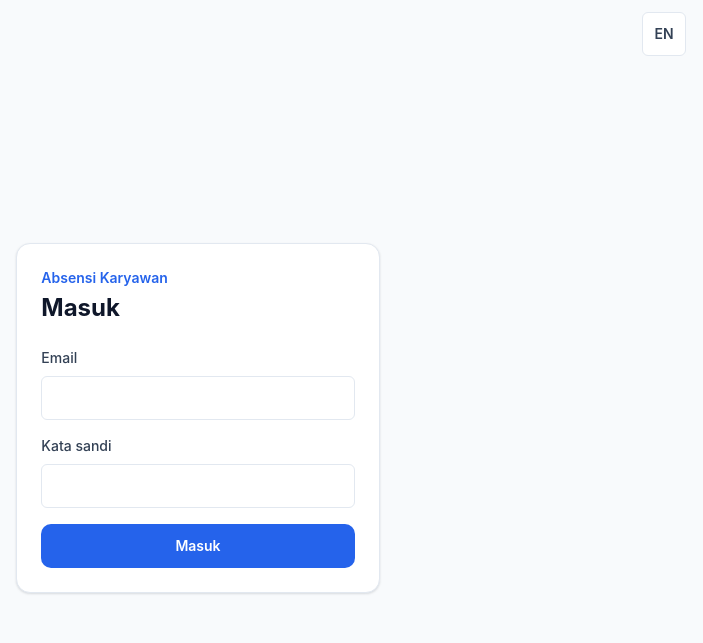
Scenario: LoginPage › shows the generic failure plus the attempts left on a rejected sign-in
Type "worker@corp.test" into the field labelled "Email".
click(198, 398); type("worker@corp.test")  # box [41, 376, 355, 420]
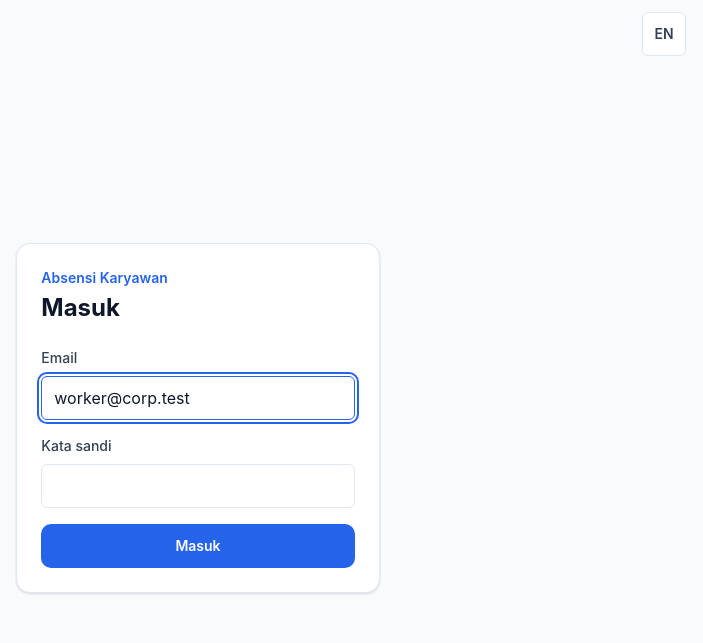
Type "secret-1" into the password field labelled "Kata sandi".
click(198, 486); type("secret-1")  # box [41, 464, 355, 508]
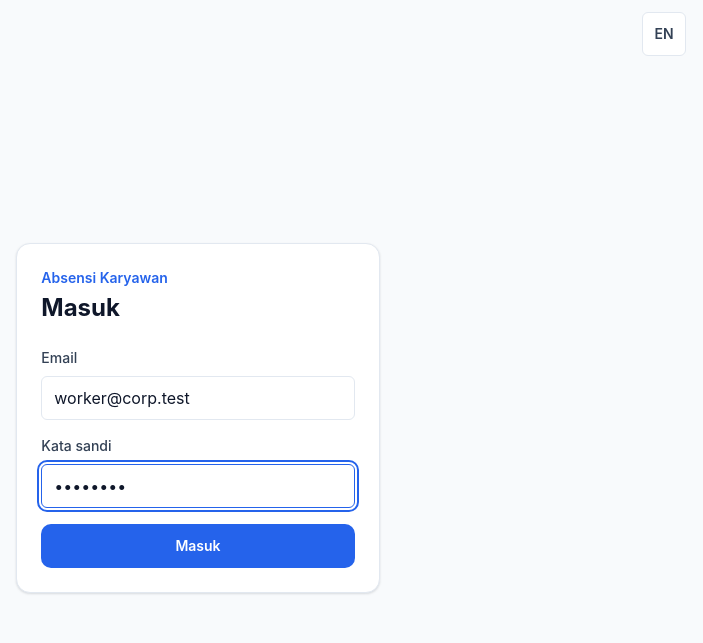
Click the button "Masuk".
click(198, 546)  # box [41, 524, 355, 568]
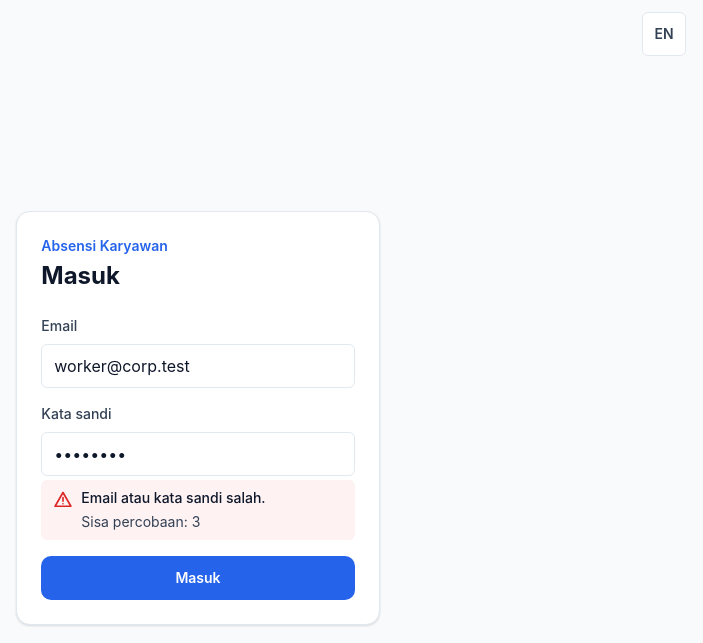
Check: the message with test id "login-error" shows "Email atau kata sandi salah.", box [81, 489, 266, 506]
